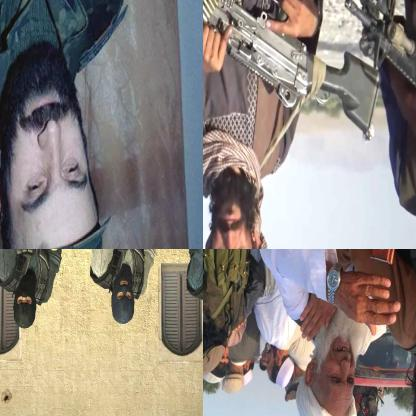rifle: (203, 0, 383, 146), (339, 0, 415, 178), (362, 249, 415, 415)
